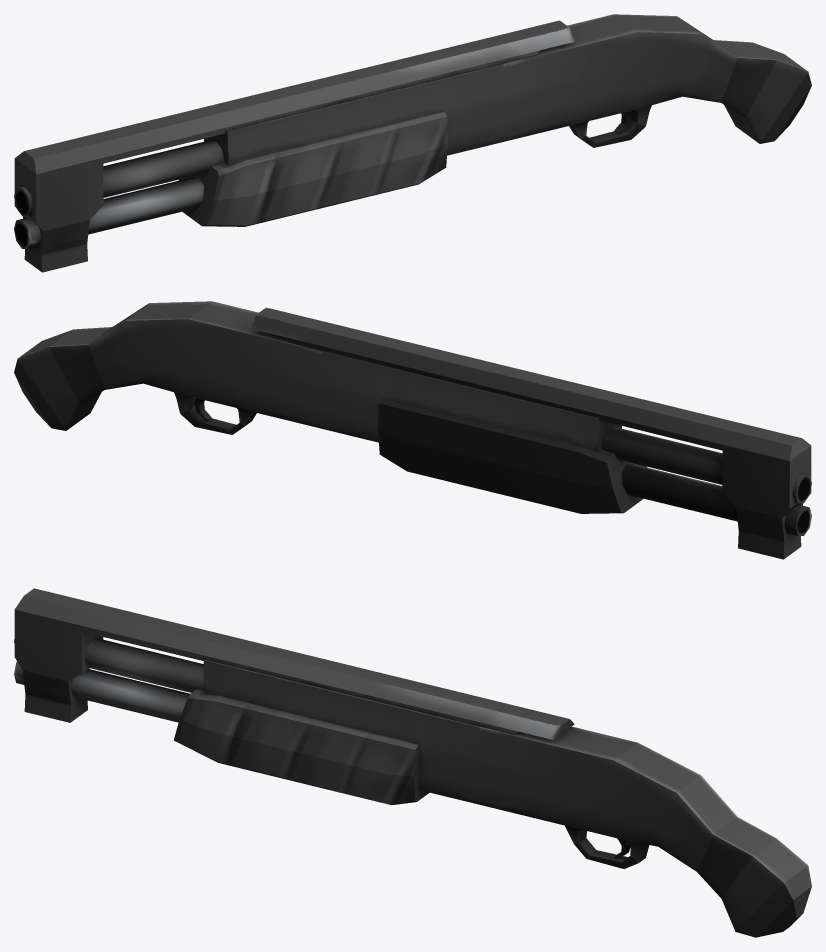
Rendered from shotgun.fbx.
The picture shows the model from 3 angles, top to bottom: view 1: azimuth 30°, elevation 25°; view 2: azimuth 150°, elevation 25°; view 3: azimuth 330°, elevation 25°; orthographic projection.
Parts seen in each view (by area): view 1: Cube; view 2: Cube; view 3: Cube.
Boxes of the visible parts, <box> form: Cube: <box>14,14,811,272</box>; Cube: <box>14,301,811,559</box>; Cube: <box>14,588,811,937</box>.
Bounding box in the file's own units: 421 × 82.08 × 31.64.
1 material, 1 textured.
